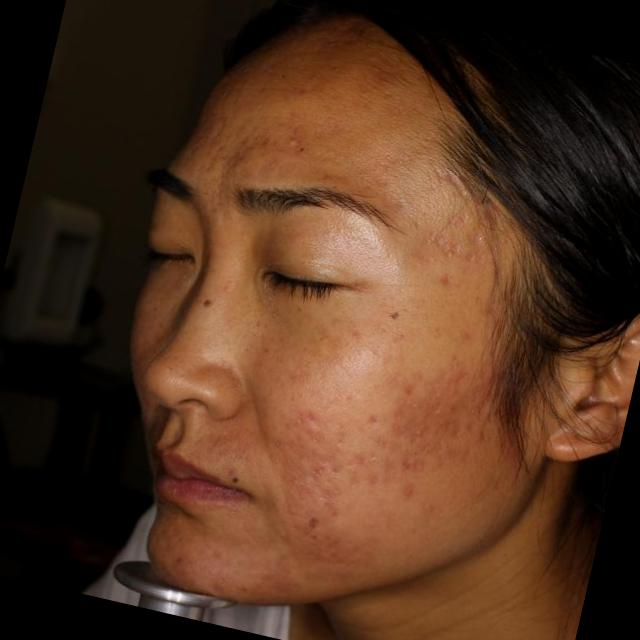acne: (391, 364, 430, 402), (280, 128, 320, 162), (274, 461, 312, 496), (396, 447, 436, 480), (311, 487, 348, 522), (374, 410, 412, 444), (339, 440, 374, 476), (442, 359, 478, 393), (212, 576, 250, 606), (427, 263, 466, 292), (318, 527, 352, 560), (386, 384, 422, 415), (476, 356, 506, 392), (442, 411, 473, 443), (466, 416, 498, 446), (390, 476, 422, 506), (292, 502, 322, 534), (293, 452, 327, 480), (449, 238, 483, 262), (358, 464, 385, 492), (282, 416, 306, 447), (453, 320, 477, 350), (426, 388, 454, 412), (414, 403, 440, 425), (446, 402, 474, 422), (297, 408, 318, 432)
